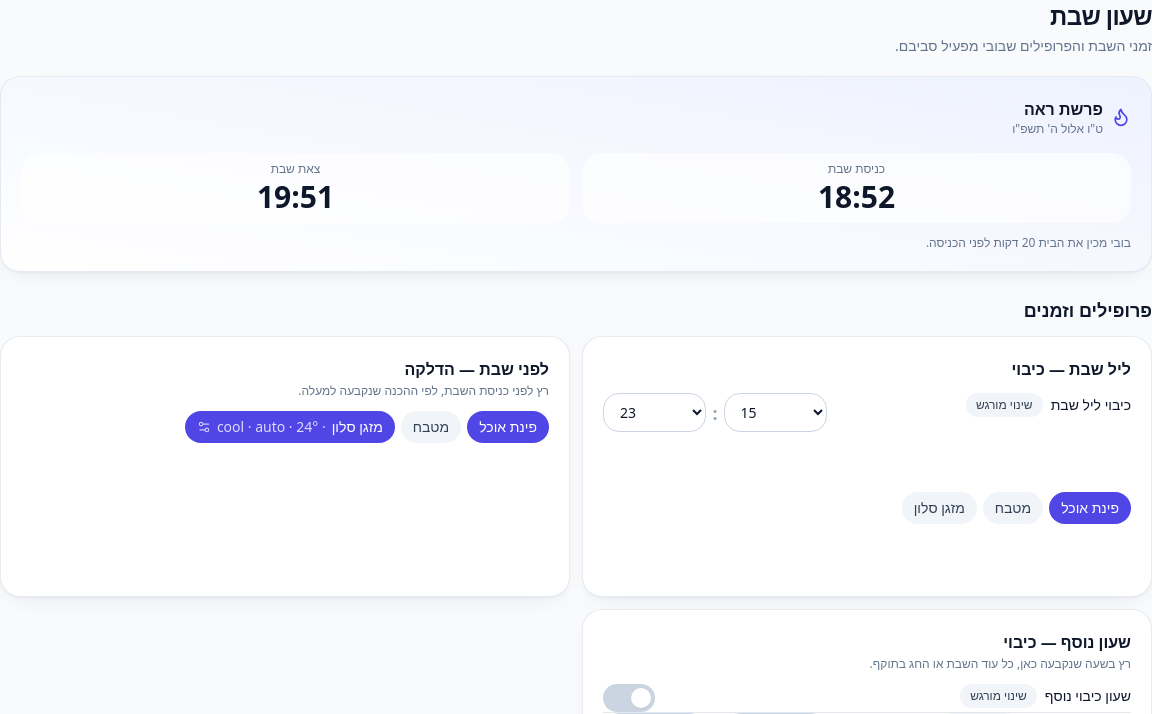
Test case: the Shabbat profile editor › opens a sheet for a device that has more to set, and a plain chip otherwise
The width and height of the screenshot is (1152, 714).
Click the button "מזגן סלון · 24° · cool · auto": click(290, 427) [185,411,395,443]
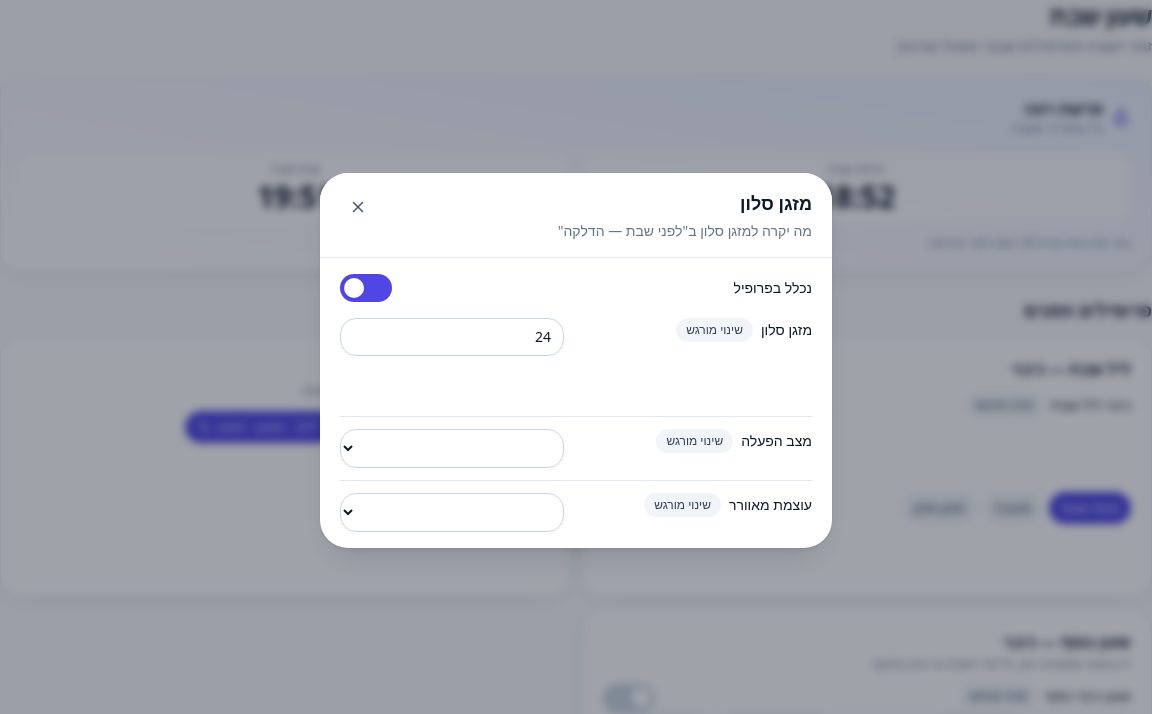
Now the switch named "נכלל" is shown, box [340,274,392,302]
Now the number field showing "24" is shown, box [340,318,564,356]
